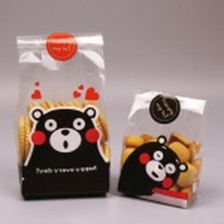snack: (7, 24, 118, 208), (109, 83, 214, 214)
